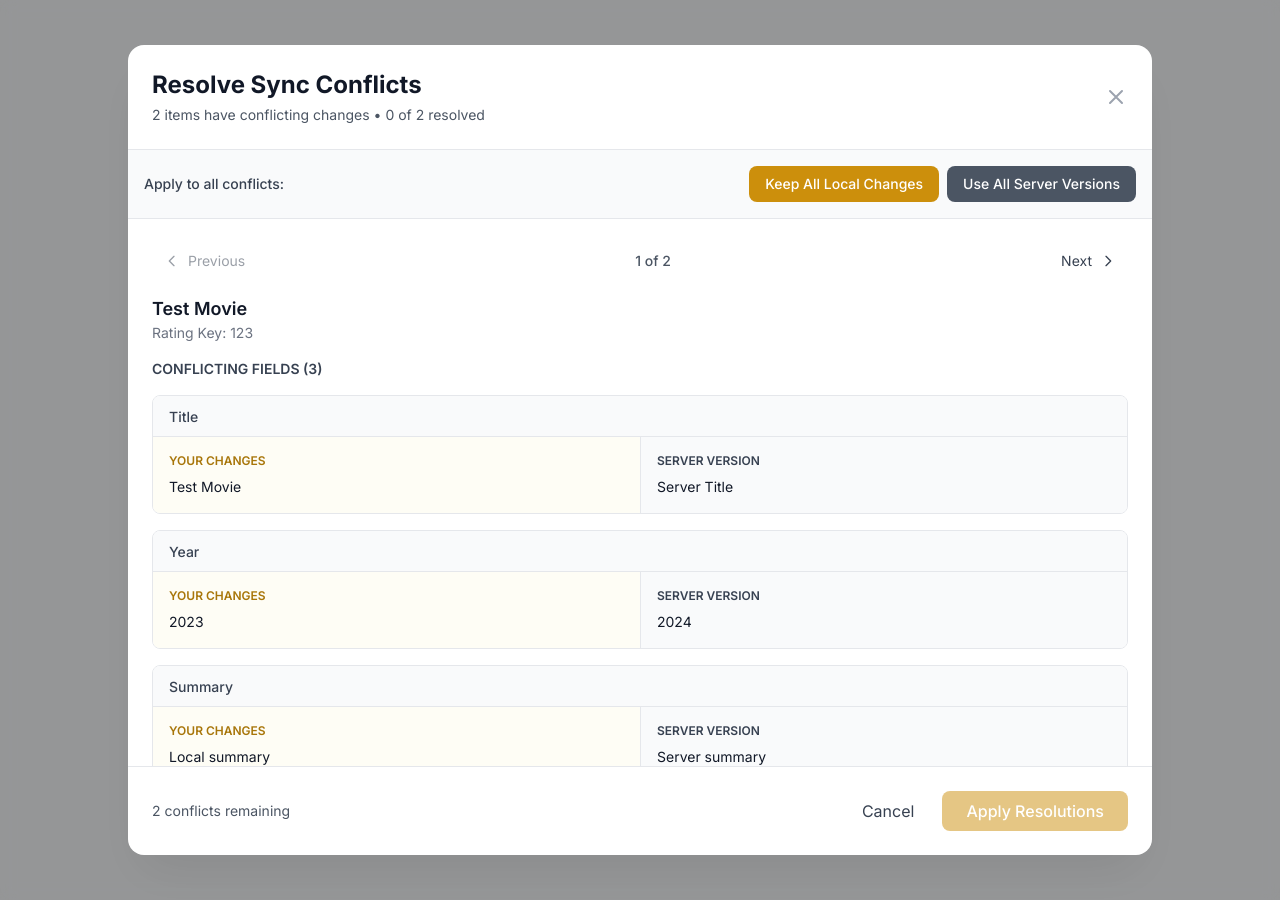
Test: ConflictResolutionModal › Bulk Resolution › should resolve all conflicts to local
The image size is (1280, 900).
What coordinates should you click on to do the following:
click the button "Keep All Local Changes"
I would click on:
 (844, 184)
Its box is [749,166,939,202].
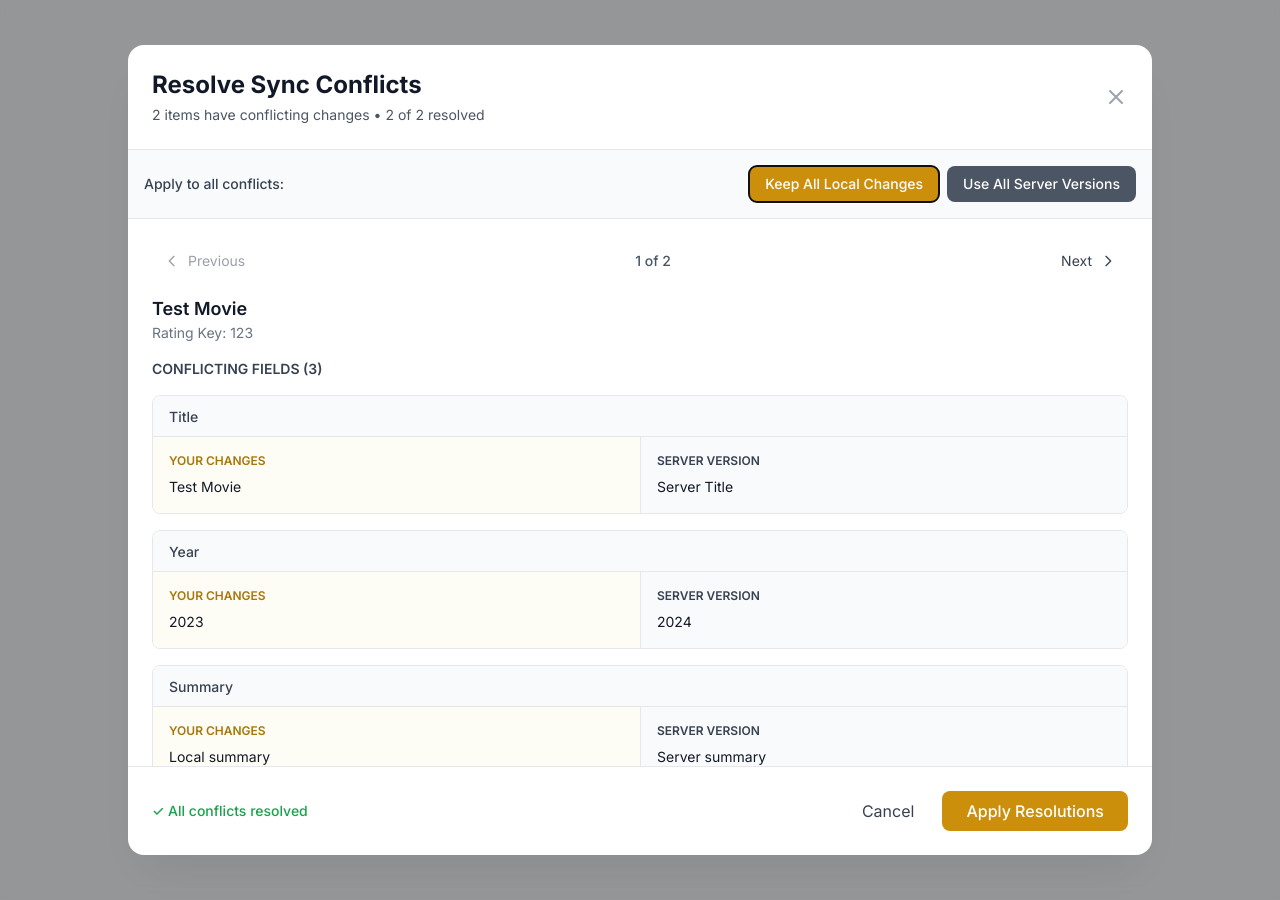
Now the text "2 items have conflicting changes • 2 of 2 resolved" is shown, box [152,105,485,125]
